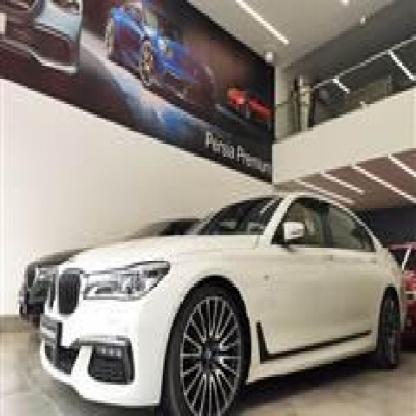Car: (36, 205, 408, 403)
